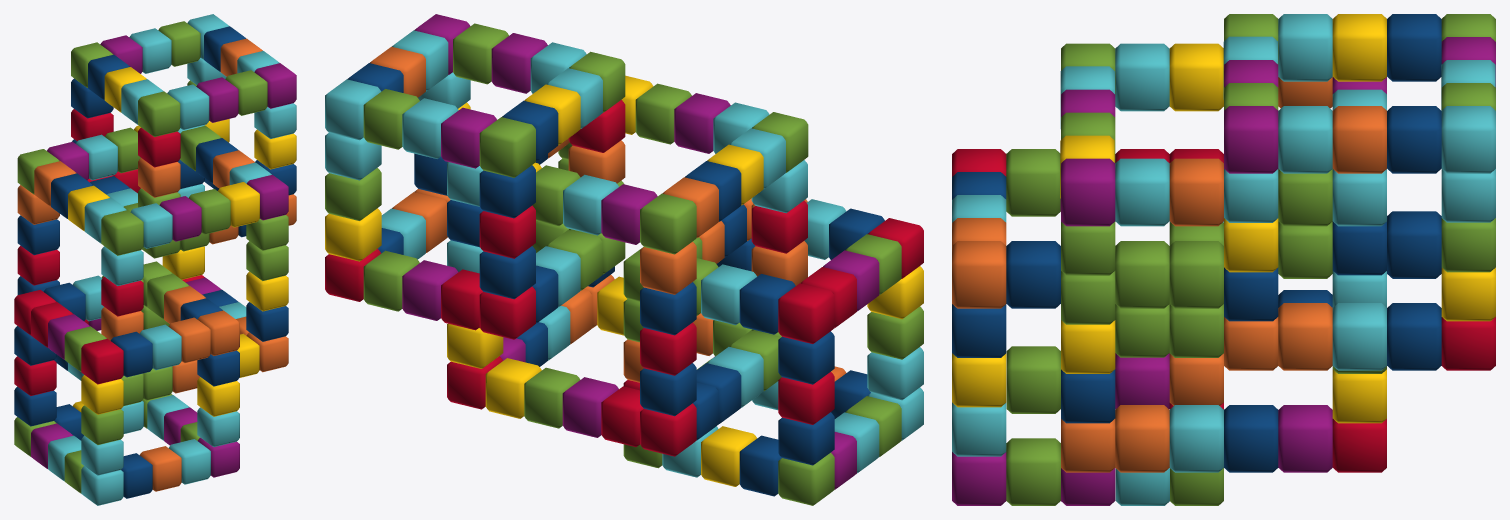
The model's file is PRP_Cubes_04.FBX.
3 renders of one model, left to right at view 1: azimuth 30°, elevation 25°; view 2: azimuth 150°, elevation 25°; view 3: azimuth 270°, elevation 25°, orthographic. The views are drawn at different scales.
Visible parts, largest first — view 1: PRP_Cubes_280, PRP_Cubes_299, PRP_Cubes_16, PRP_Cubes_285, PRP_Cubes_296, PRP_Cubes_210, PRP_Cubes_248, PRP_Cubes_286, PRP_Cubes_28, PRP_Cubes_11, PRP_Cubes_192, PRP_Cubes_231 (+86 smaller); view 2: PRP_Cubes_285, PRP_Cubes_203, PRP_Cubes_236, PRP_Cubes_243, PRP_Cubes_280, PRP_Cubes_258, PRP_Cubes_233, PRP_Cubes_174, PRP_Cubes_169, PRP_Cubes_241, PRP_Cubes_186, PRP_Cubes_281 (+85 smaller); view 3: PRP_Cubes_296, PRP_Cubes_32, PRP_Cubes_261, PRP_Cubes_236, PRP_Cubes_16, PRP_Cubes_299, PRP_Cubes_33, PRP_Cubes_38, PRP_Cubes_68, PRP_Cubes_73, PRP_Cubes_05, PRP_Cubes_222 (+61 smaller).
Boxes of the visible parts, x1,y1,x2,y2 form: PRP_Cubes_280: (81,435,123,505); PRP_Cubes_299: (168,310,239,362); PRP_Cubes_16: (246,215,288,280); PRP_Cubes_285: (14,289,73,347); PRP_Cubes_296: (101,261,189,329); PRP_Cubes_210: (101,210,143,255); PRP_Cubes_248: (138,91,180,136); PRP_Cubes_286: (81,338,123,384); PRP_Cubes_28: (121,366,172,406); PRP_Cubes_11: (101,276,143,316); PRP_Cubes_192: (17,245,59,285); PRP_Cubes_231: (138,158,180,197); PRP_Cubes_285: (778,267,856,343); PRP_Cubes_203: (601,386,696,456); PRP_Cubes_236: (325,79,381,180); PRP_Cubes_243: (441,269,535,339); PRP_Cubes_280: (867,347,923,440); PRP_Cubes_258: (532,180,625,290); PRP_Cubes_233: (479,117,535,177); PRP_Cubes_174: (640,193,696,254); PRP_Cubes_169: (693,363,741,440); PRP_Cubes_241: (325,168,381,220); PRP_Cubes_186: (640,282,696,335); PRP_Cubes_281: (778,412,834,465); PRP_Cubes_296: (1115,222,1223,357); PRP_Cubes_32: (1061,405,1169,472); PRP_Cubes_261: (1224,303,1332,370); PRP_Cubes_236: (1441,106,1495,222); PRP_Cubes_16: (1061,221,1115,324); PRP_Cubes_299: (952,218,1006,308); PRP_Cubes_33: (1115,43,1169,111); PRP_Cubes_38: (1115,158,1169,226); PRP_Cubes_68: (1169,43,1223,111); PRP_Cubes_73: (1169,158,1223,226); PRP_Cubes_05: (1061,158,1115,226); PRP_Cubes_222: (1332,303,1386,370).
Bounding box in the file's own units: 98.43 × 100 × 100.
